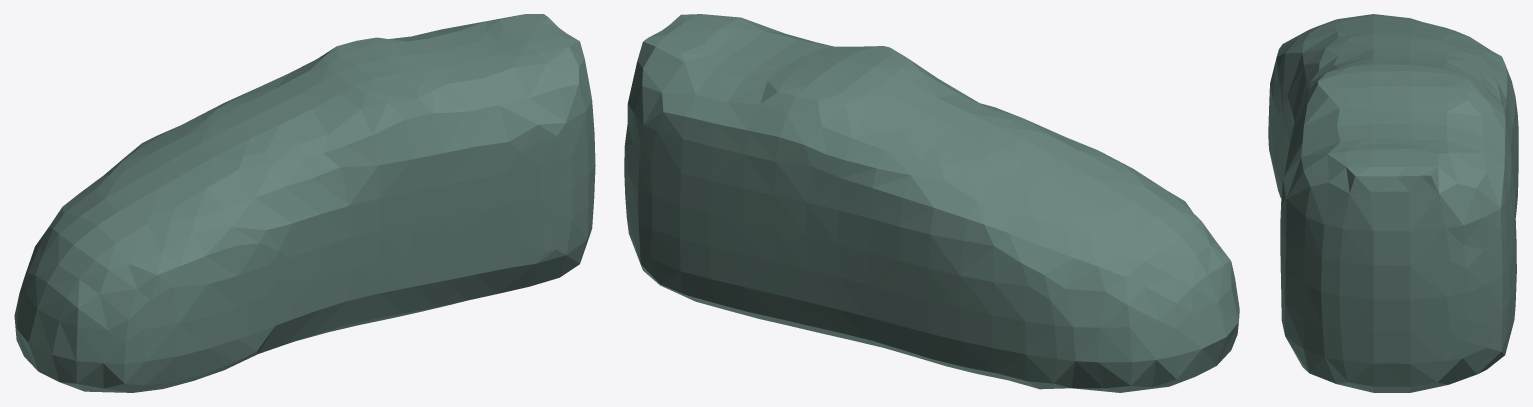
3 views of the same model, side by side, from view 1: azimuth 30°, elevation 25°; view 2: azimuth 150°, elevation 25°; view 3: azimuth 270°, elevation 25° (orthographic). The views are drawn at different scales.
Visible parts, largest first — view 1: ready.001; view 2: ready.001; view 3: ready.001.
Part boxes in pixels (x1,y1,x2,y2): ready.001: (14,14,595,392); ready.001: (624,14,1239,392); ready.001: (1268,14,1518,392).
Size of the model in its own units: 3.67 by 1.44 by 1.38.
Materials: 1 (1 with a texture image).
